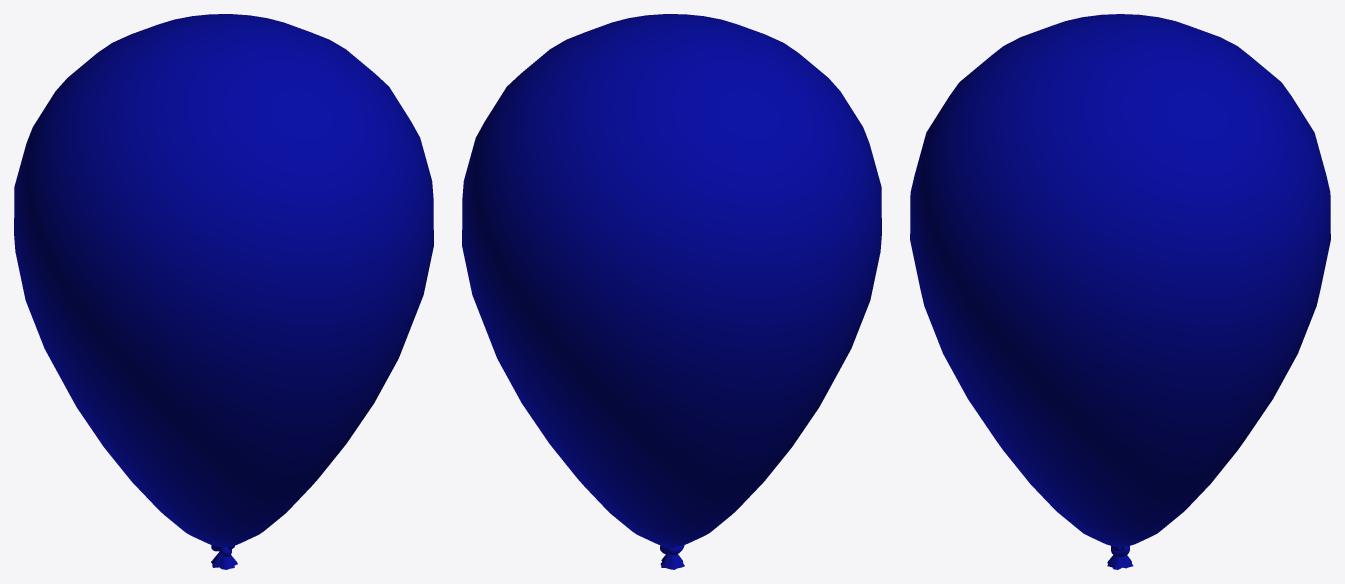
File: Balloon.FBX
3 views of the same model, side by side, from view 1: azimuth 30°, elevation 25°; view 2: azimuth 150°, elevation 25°; view 3: azimuth 270°, elevation 25° (orthographic).
Visible parts, largest first — view 1: balloon; view 2: balloon; view 3: balloon.
Part boxes in pixels (left/top/right/bottom): balloon: left=14, top=14, right=433, bottom=546; balloon: left=462, top=14, right=881, bottom=546; balloon: left=910, top=14, right=1330, bottom=546.
Size of the model in its own units: 269 by 372 by 269.
